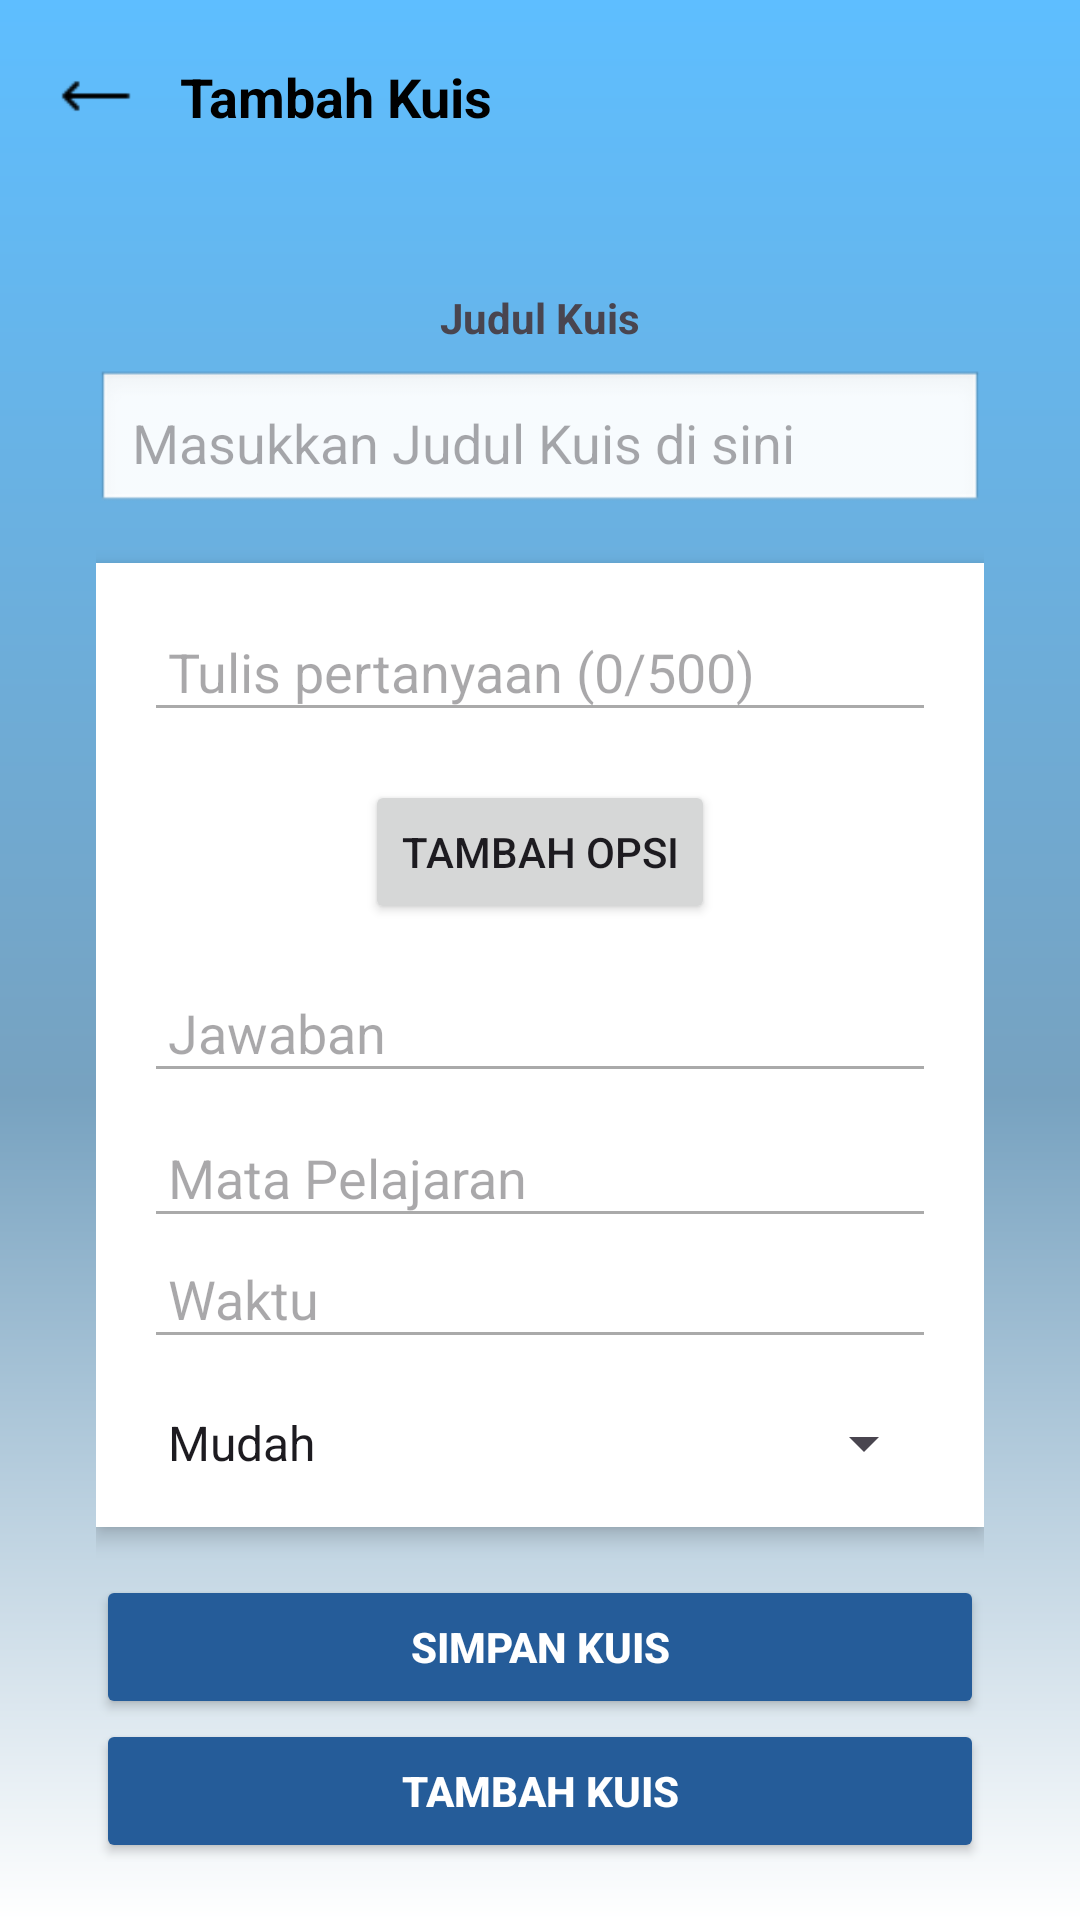

Icons on this 1080px×1920px Android screen, each with its box as (x1, y1, x2, y2):
Back Arrow: (61, 81, 131, 111)
